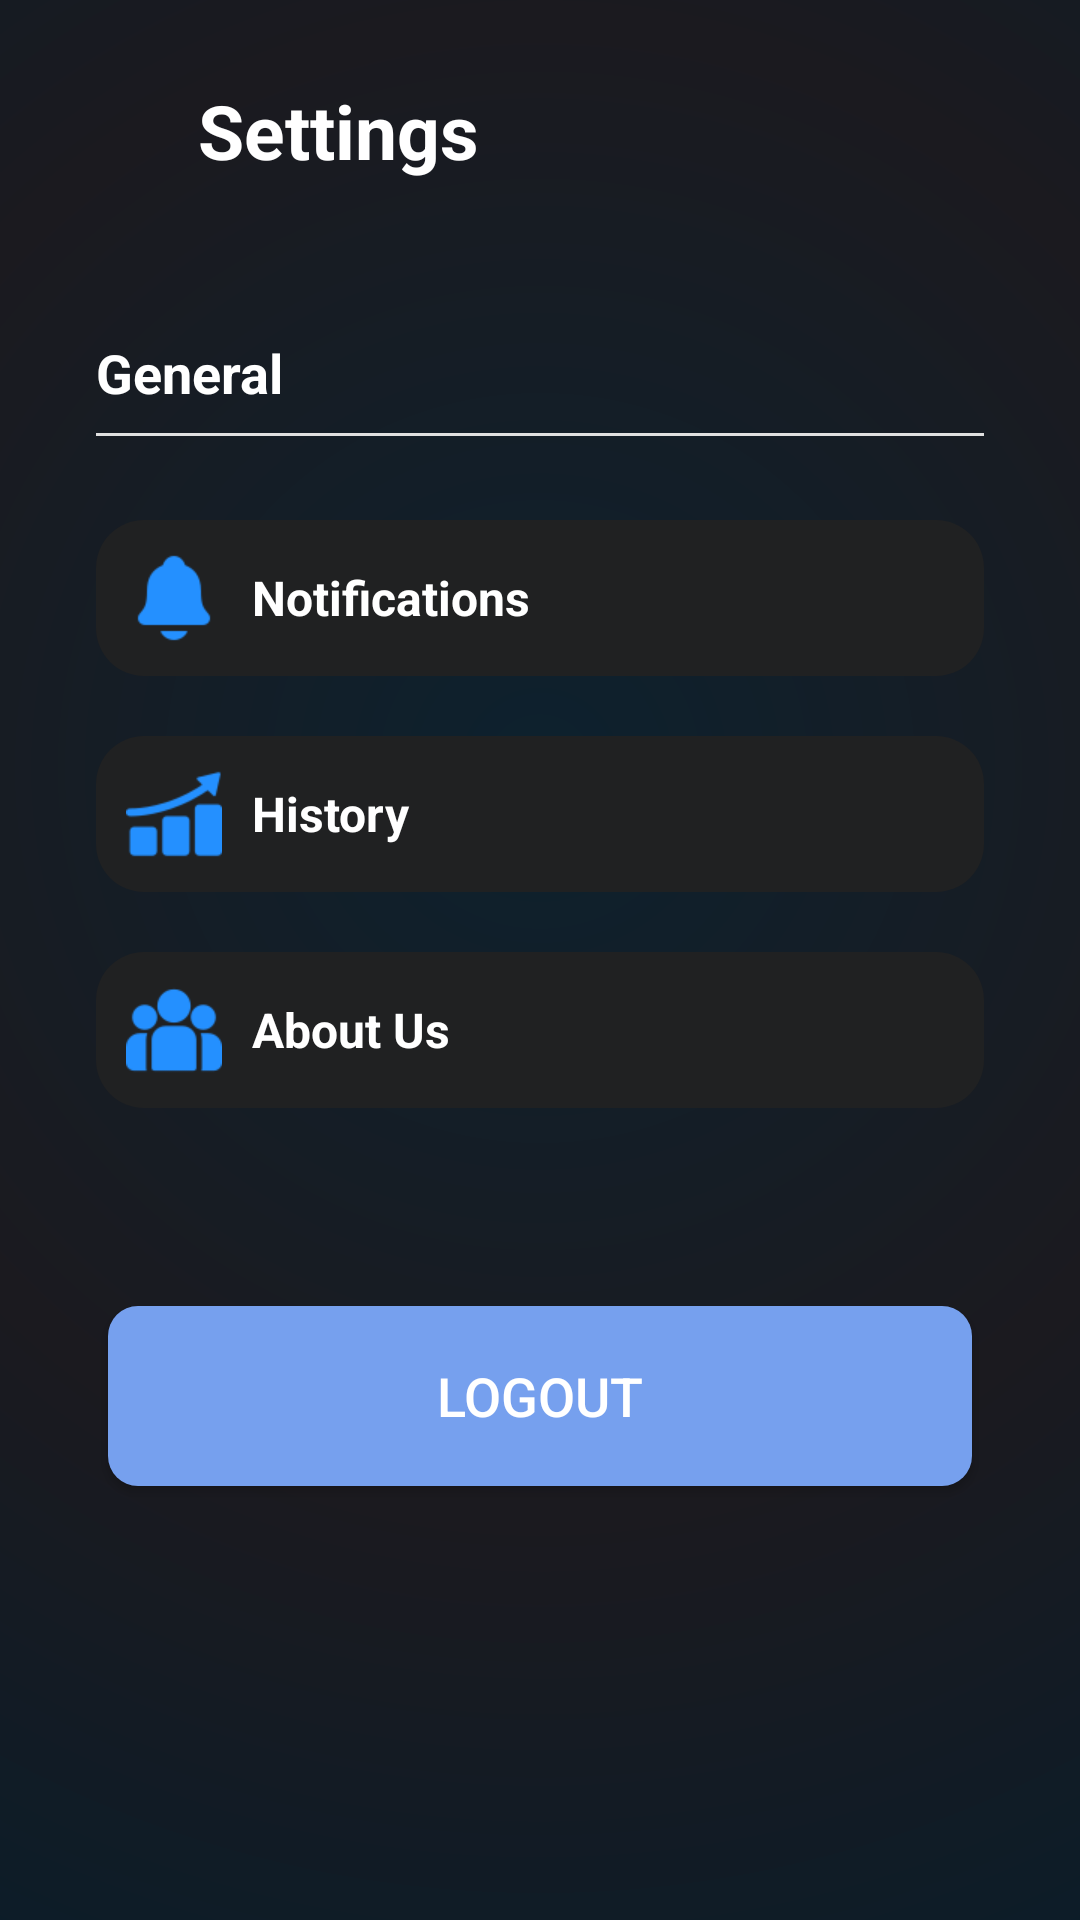

Point at icon controls on the screen. Image size 1080px×1920px, points as (x=x, y=y).
progress: (x=174, y=814)
